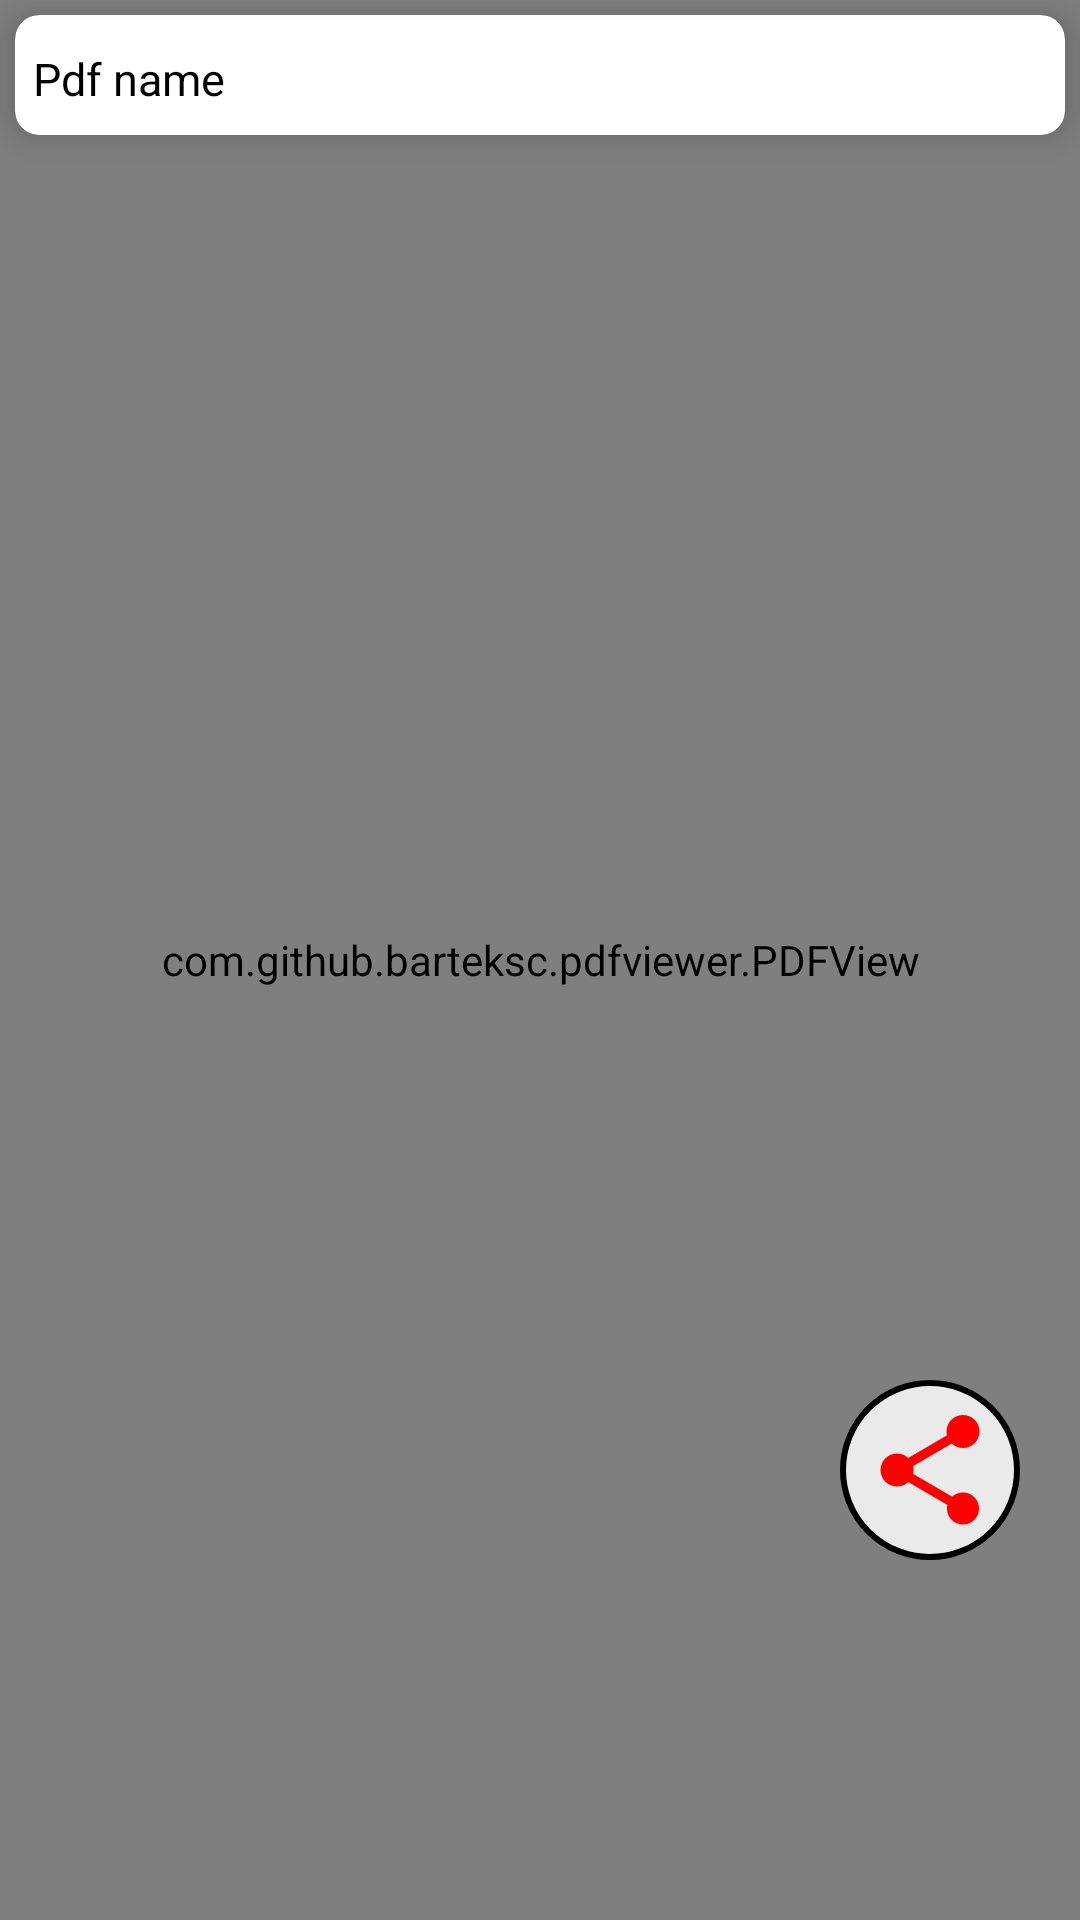

Point at icon controls on the screen. Image size 1080px x 1920px, points as (x=x, y=y).
share: (x=930, y=1470)
